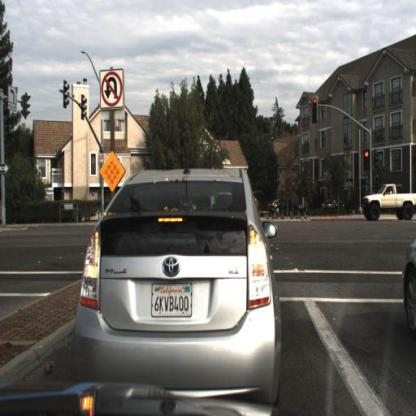car: (73, 160, 282, 404), (361, 181, 416, 225), (401, 229, 416, 338), (319, 194, 354, 219)
pedestrian: (295, 186, 310, 221), (297, 189, 306, 215)
trafficLight-Red: (362, 146, 373, 174), (312, 94, 321, 125)
